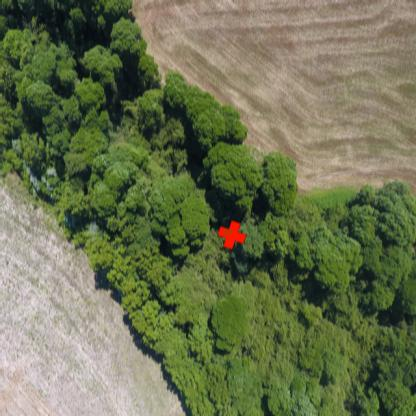5: (222, 229, 235, 236)
plus: (218, 220, 246, 250)
